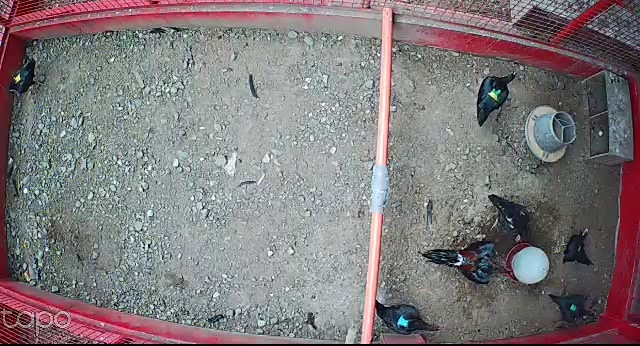Chicken: (370, 293, 444, 336), (485, 192, 536, 248), (474, 67, 519, 127), (546, 290, 603, 328), (551, 225, 596, 270), (5, 58, 47, 95)
Drinker: (504, 244, 550, 283)
Feeder: (526, 104, 576, 164)
Rooster: (418, 239, 516, 287)
Saddle_Color_Blue: (395, 315, 410, 329)
Saddle_Color_Yellow: (13, 70, 22, 83)
Saddle_Color_YellowGreen: (487, 87, 503, 102)
